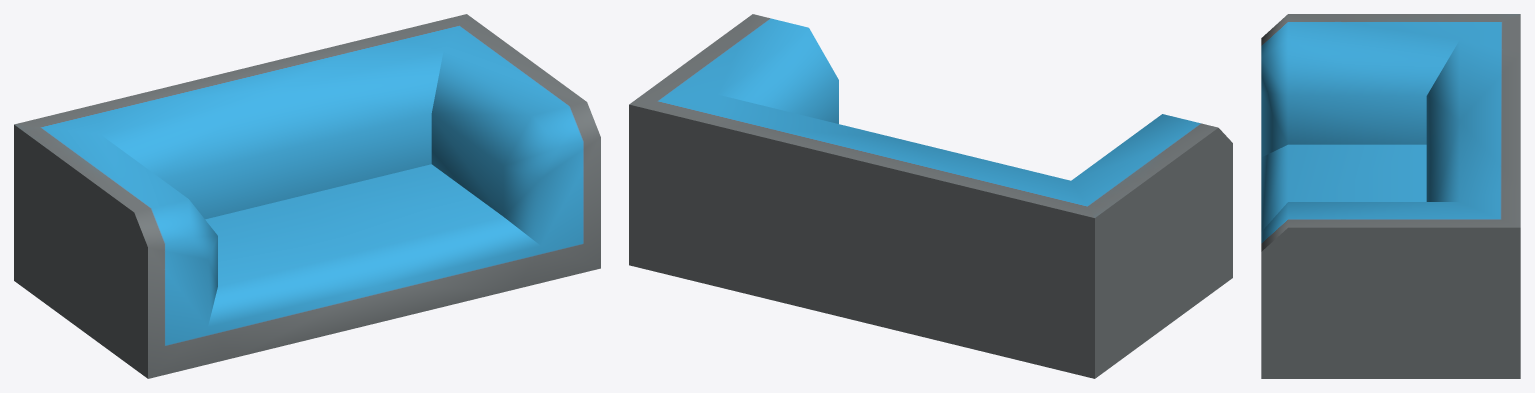
The model's file is fbx_sofa.fbx.
3 views of the same model, side by side, from view 1: azimuth 30°, elevation 25°; view 2: azimuth 150°, elevation 25°; view 3: azimuth 270°, elevation 25° (orthographic). The views are drawn at different scales.
Parts seen in each view (by area): view 1: sofa; view 2: sofa; view 3: sofa.
Boxes of the visible parts, left/top/right/bottom form: sofa: left=14, top=14, right=600, bottom=378; sofa: left=629, top=14, right=1232, bottom=378; sofa: left=1261, top=14, right=1520, bottom=378.
Size of the model in its own units: 2 by 0.6584 by 1.02.
